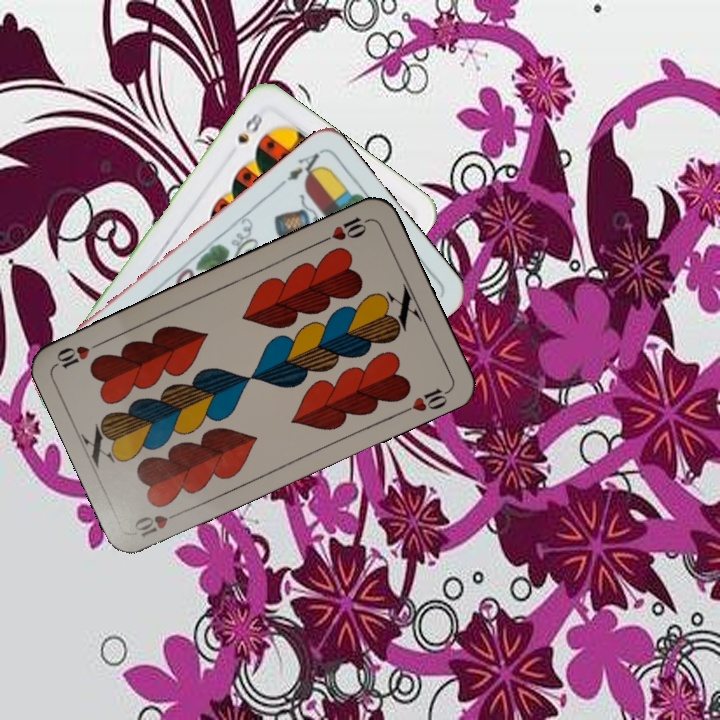EA: (274, 149, 326, 191)
H10: (130, 505, 187, 540), (317, 212, 373, 246)
S8: (233, 108, 266, 147)
